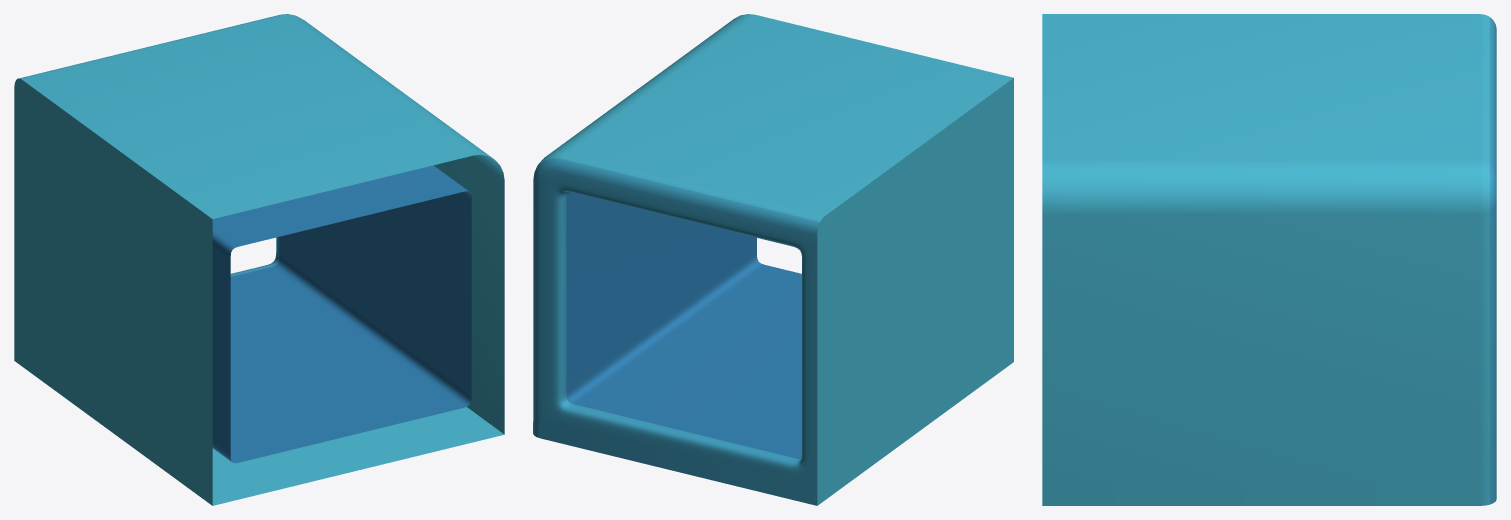
File: Platform-1.fbx
3 views of the same model, side by side, from view 1: azimuth 30°, elevation 25°; view 2: azimuth 150°, elevation 25°; view 3: azimuth 270°, elevation 25° (orthographic). The views are drawn at different scales.
Visible parts, largest first — view 1: Platform-1; view 2: Platform-1; view 3: Platform-1.
Boxes of the visible parts, <box> form: Platform-1: <box>14,14,504,505</box>; Platform-1: <box>533,14,1013,505</box>; Platform-1: <box>1042,14,1496,505</box>.
Bounding box in the file's own units: 422 × 396 × 496.
